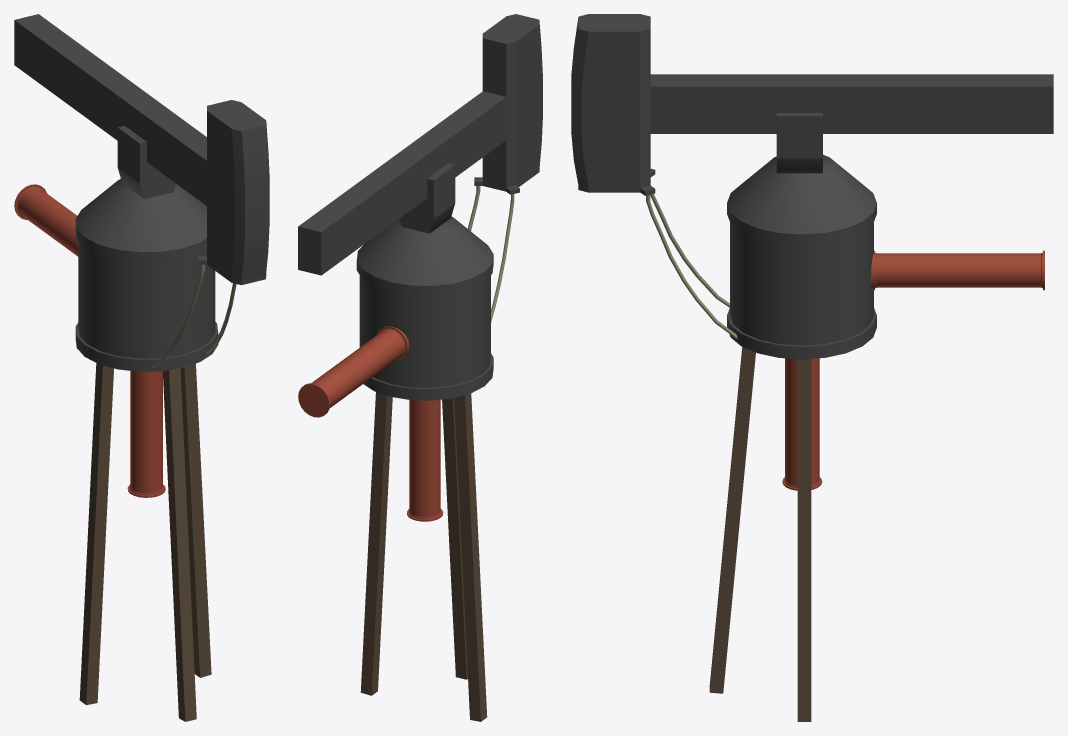
The model's file is Waterpump.fbx.
The picture shows the model from 3 angles, left to right: view 1: azimuth 30°, elevation 25°; view 2: azimuth 150°, elevation 25°; view 3: azimuth 270°, elevation 25°; orthographic projection. The views are drawn at different scales.
Visible parts, largest first — view 1: Waterpump; view 2: Waterpump; view 3: Waterpump.
Part boxes in pixels (left/top/right/bottom): Waterpump: left=14, top=14, right=269, bottom=721; Waterpump: left=298, top=14, right=542, bottom=721; Waterpump: left=571, top=14, right=1053, bottom=721.
Size of the model in its own units: 2.2 by 10.72 by 7.01.
